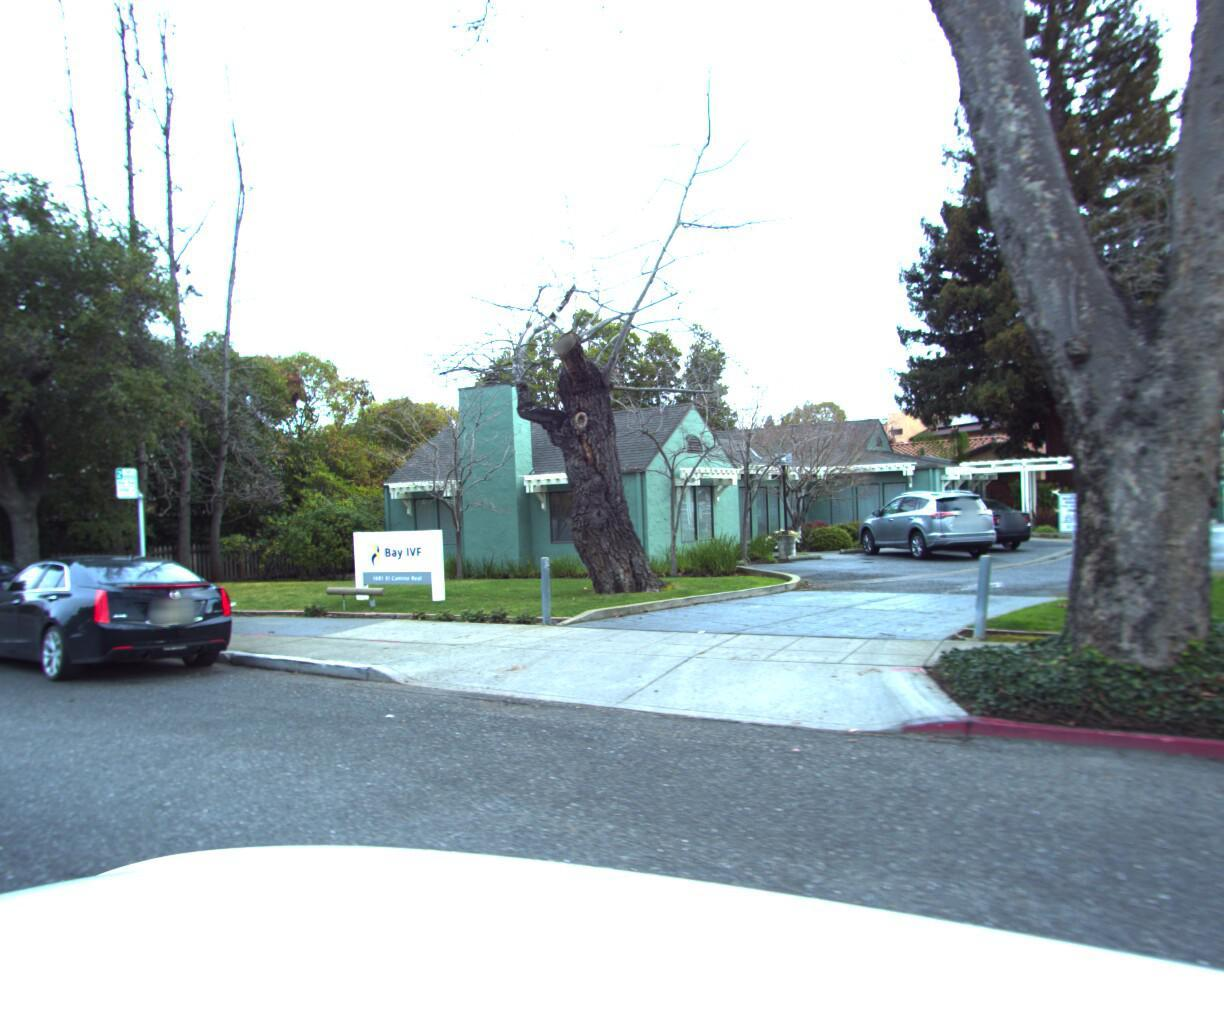car: (0, 540, 260, 705), (0, 548, 61, 663)
